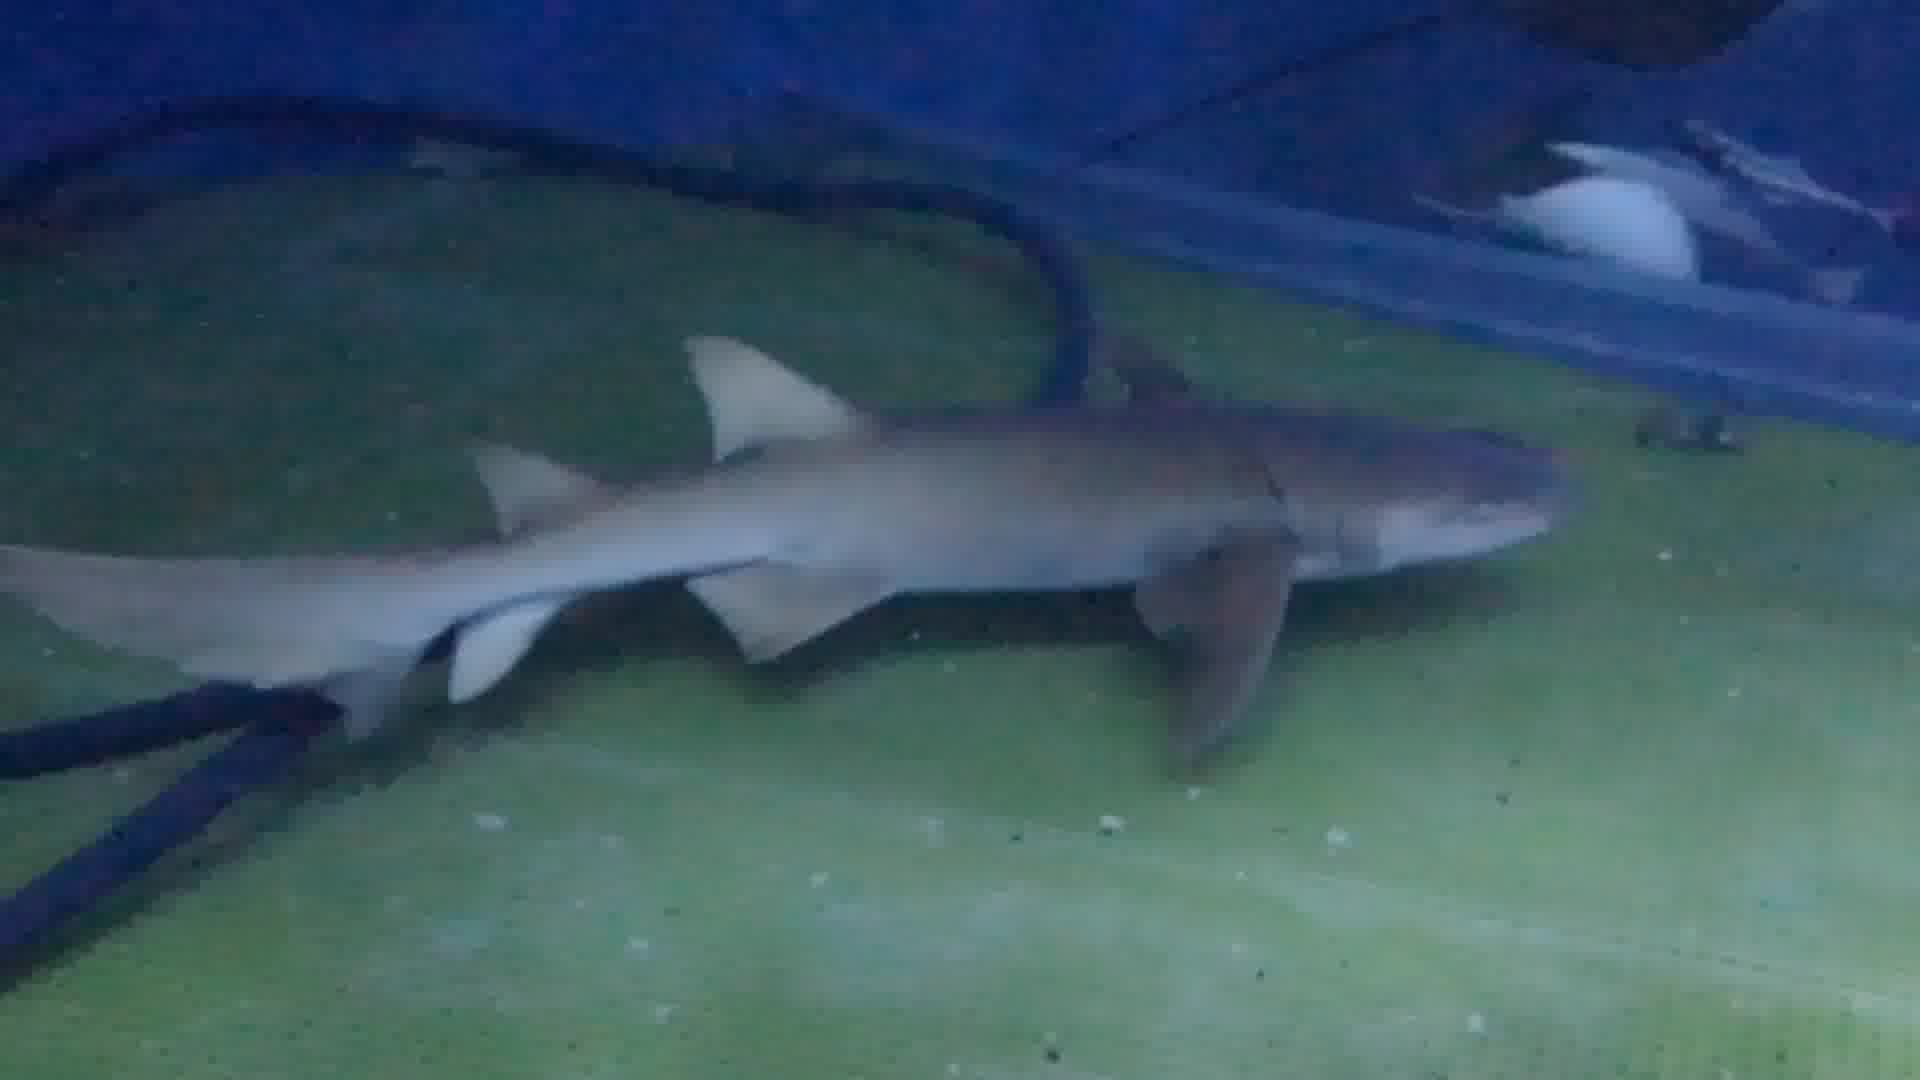Nebrius ferrugineus: (113, 357, 1561, 783)
